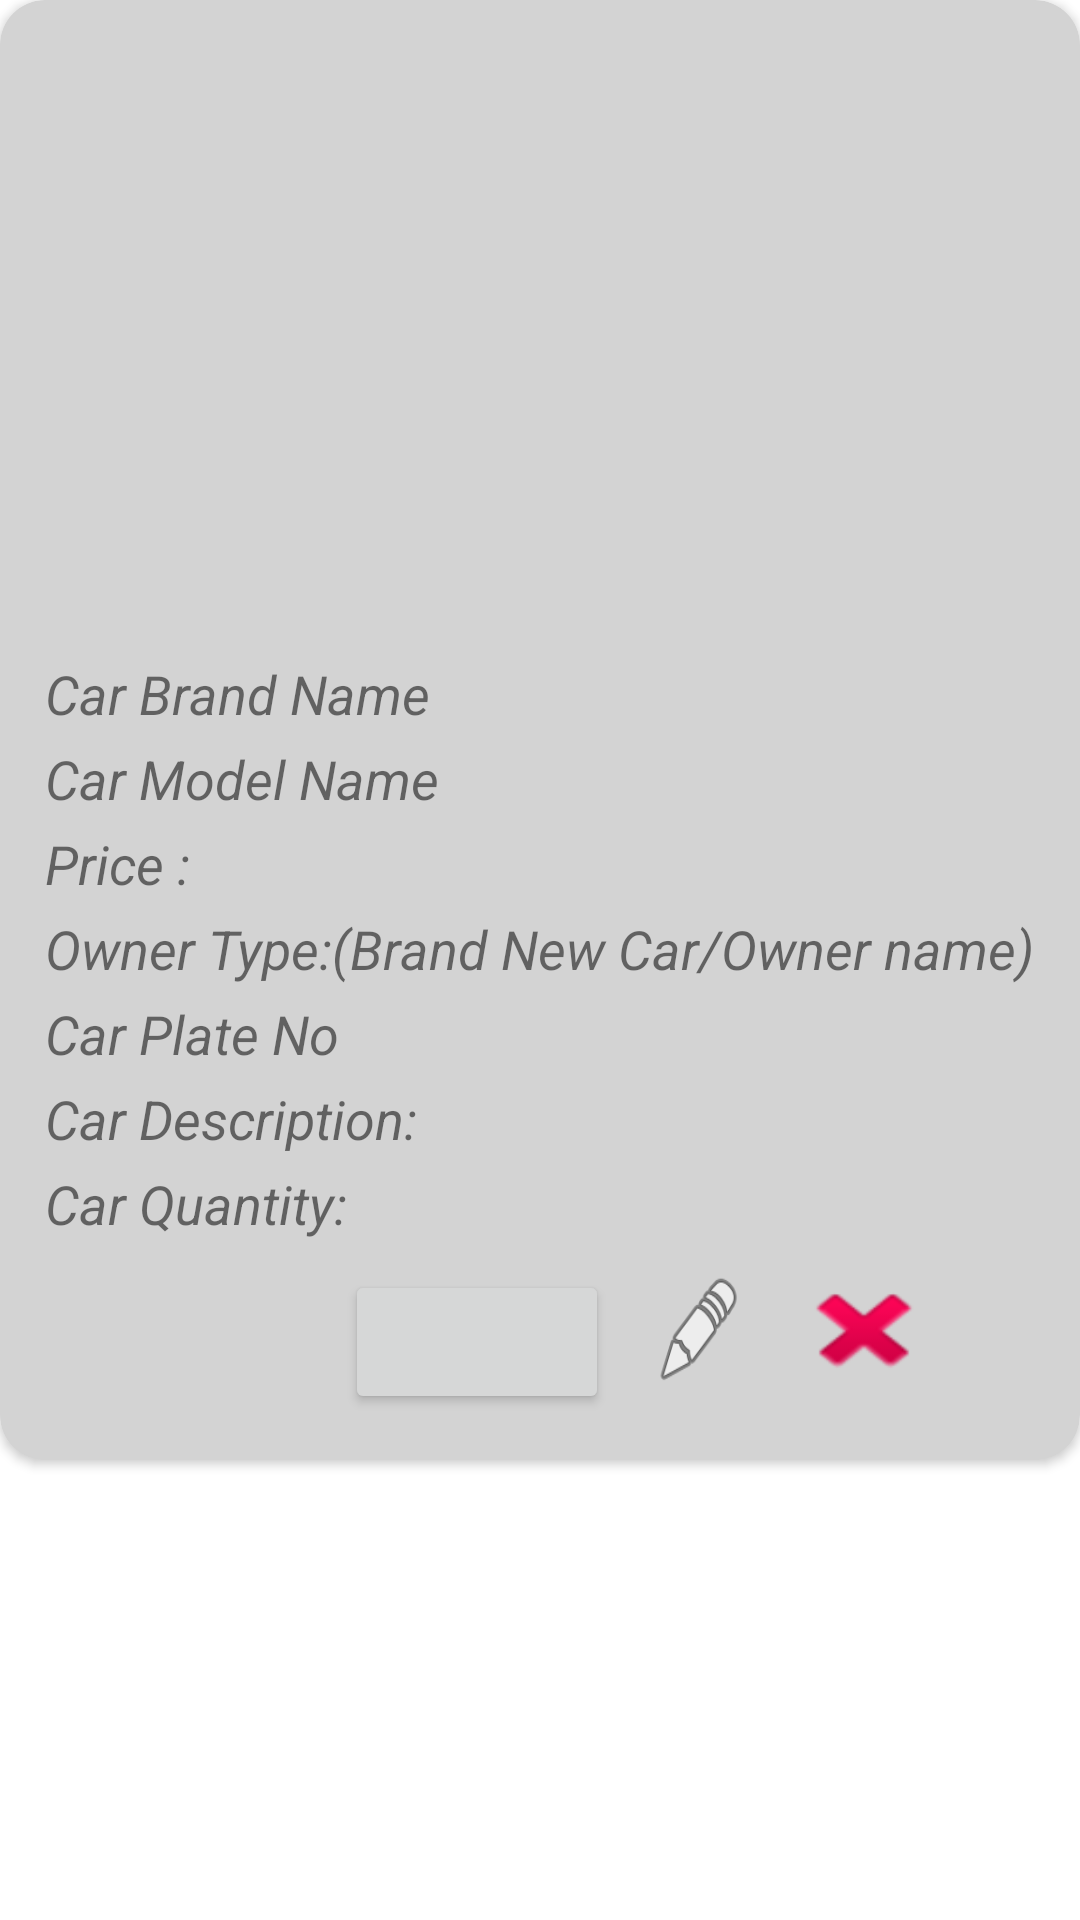

Icon click points for this 1080 × 1920 phone screenshot, format point (x, y):
delete: point (864, 1330)
edit: point (699, 1329)
